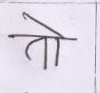e_matra: (24, 12, 67, 37)
